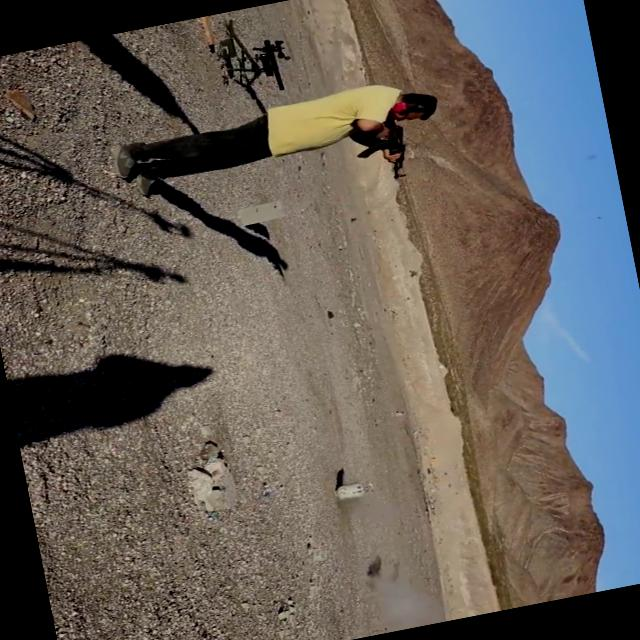long weapon: (344, 101, 417, 210), (225, 29, 304, 104)
